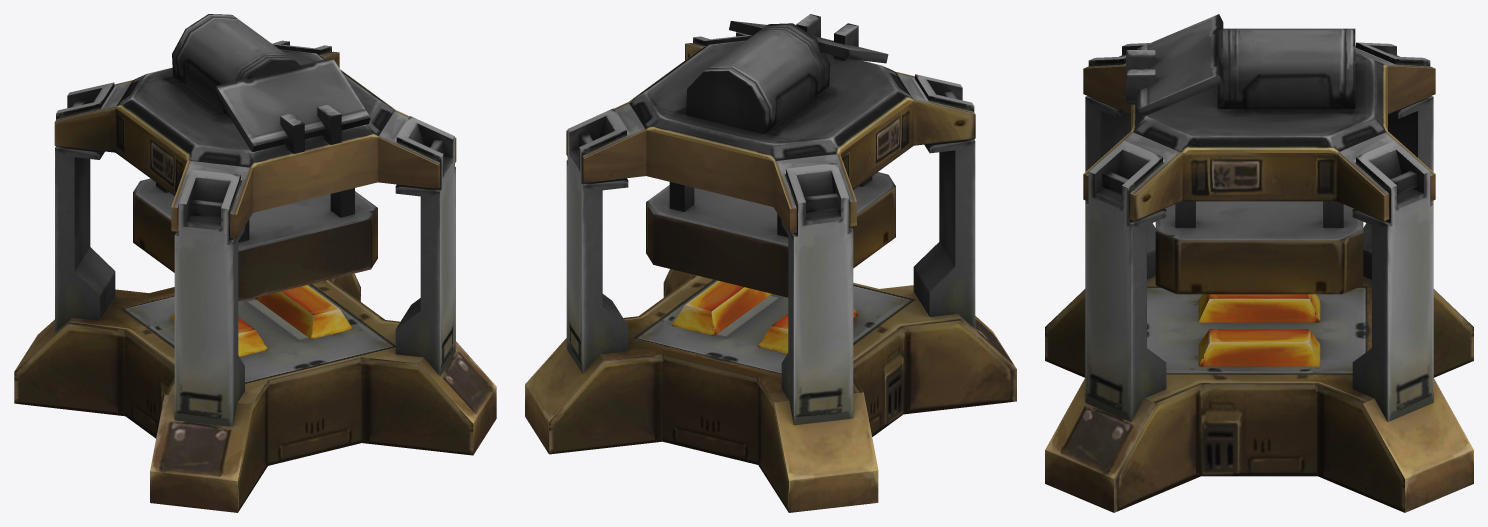
File: S_survive_goldmate.fbx
The picture shows the model from 3 angles, left to right: view 1: azimuth 30°, elevation 25°; view 2: azimuth 150°, elevation 25°; view 3: azimuth 270°, elevation 25°; orthographic projection. The views are drawn at different scales.
Parts seen in each view (by area): view 1: S_survive_goldmate; view 2: S_survive_goldmate; view 3: S_survive_goldmate.
Boxes of the visible parts, box(x1,y1,x2,y2) form: S_survive_goldmate: box(14, 14, 496, 512); S_survive_goldmate: box(525, 14, 1016, 512); S_survive_goldmate: box(1045, 14, 1473, 512).
Size of the model in its own units: 1 by 1 by 1.
Materials: 1 (1 with a texture image).
